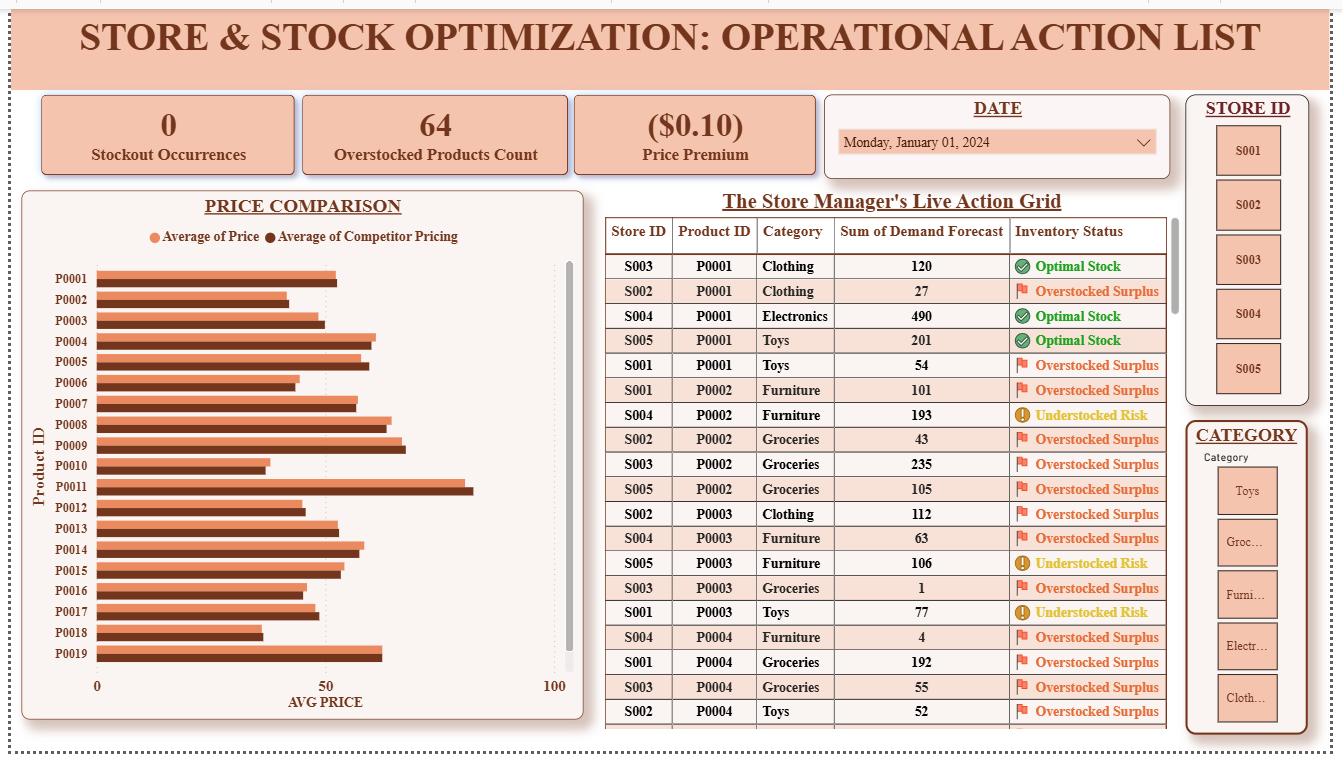

Layout of this report page (visuals, bound fields, positions):
{"tool":"powerbi","page":{"name":"Page 3","canvas":[1280,720],"ordinal":2},"visuals":[{"type":"slicer","title":"STORE ID","fields":{"Values":["Dim_store.Store ID"]},"box":[1140,83.3,120,301.7],"z":0},{"type":"textbox","box":[0,0,1279.5,78.7],"z":1000},{"type":"cardVisual","fields":{"Data":["Measure.Stockout Occurrences"]},"box":[0,54.5,304.4,136.3],"z":2000},{"type":"cardVisual","fields":{"Data":["Measure.Overstocked Products Count"]},"box":[252.9,54.5,316.5,136.3],"z":3000},{"type":"cardVisual","fields":{"Data":["Measure.Price Premium"]},"box":[516.3,54.5,293.8,136.3],"z":4000},{"type":"clusteredBarChart","title":"PRICE COMPARISON","fields":{"Category":["Dim_product.Product ID"],"Y":["Avg(Fact_inventory.Price)","Avg(Fact_inventory.Competitor Pricing)"]},"box":[10.6,175.6,545.1,513.3],"z":5000},{"type":"slicer","title":"DATE","fields":{"Values":["Fact_inventory.Date"]},"box":[788.9,83.3,336.2,81.8],"z":6000},{"type":"tableEx","title":"The Store Manager''s Live Action Grid","fields":{"Values":["Fact_inventory.Store ID","Fact_inventory.Product ID","Fact_inventory.Category","Sum(Fact_inventory.Demand Forecast)","Fact_inventory.Inventory Status"]},"box":[570,175,568.3,528.3],"z":7000},{"type":"slicer","title":"CATEGORY","fields":{"Values":["Fact_inventory.Category"]},"box":[1140,398.3,118.3,305],"z":8000}]}

Visuals, with their boxes in screenshot pixels (x1, y1, x2, y2), scaled from the page's 1280x720 canvas onto the 1342x759 screenshot:
"STORE ID" slicer: [x1=1195, y1=88, x2=1321, y2=406]
textbox: [x1=0, y1=0, x2=1341, y2=83]
cardVisual - Measure.Stockout Occurrences: [x1=0, y1=57, x2=319, y2=201]
cardVisual - Measure.Overstocked Products Count: [x1=265, y1=57, x2=597, y2=201]
cardVisual - Measure.Price Premium: [x1=541, y1=57, x2=849, y2=201]
"PRICE COMPARISON" clusteredBarChart: [x1=11, y1=185, x2=583, y2=726]
"DATE" slicer: [x1=827, y1=88, x2=1180, y2=174]
"The Store Manager''s Live Action Grid" tableEx: [x1=598, y1=184, x2=1193, y2=741]
"CATEGORY" slicer: [x1=1195, y1=420, x2=1319, y2=741]
